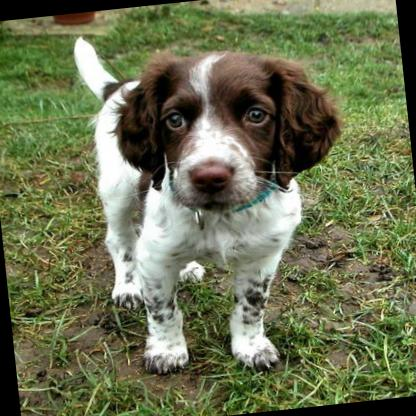English_springer: (67, 6, 366, 386)
